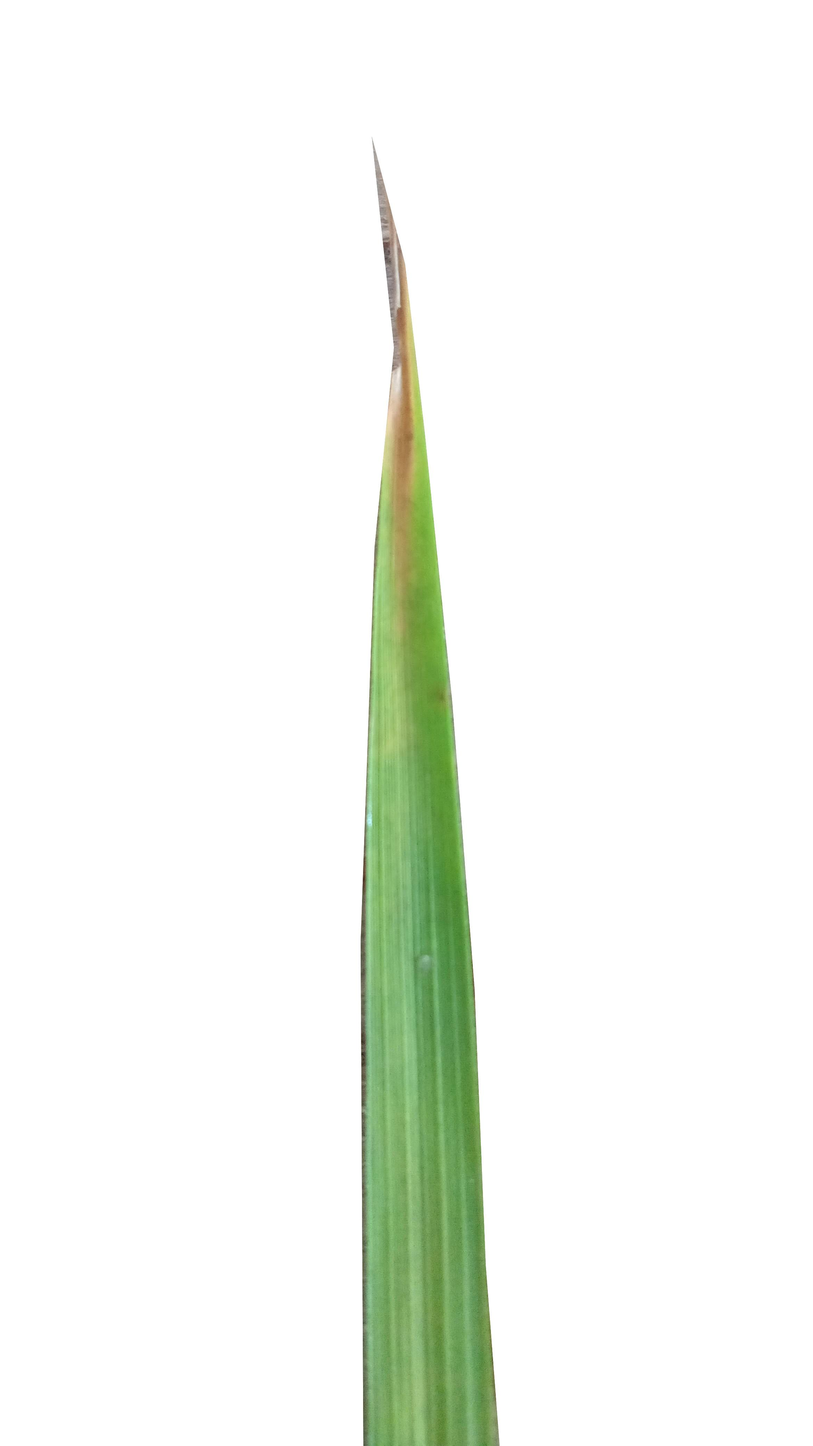Tungro: (375, 264, 448, 869)
